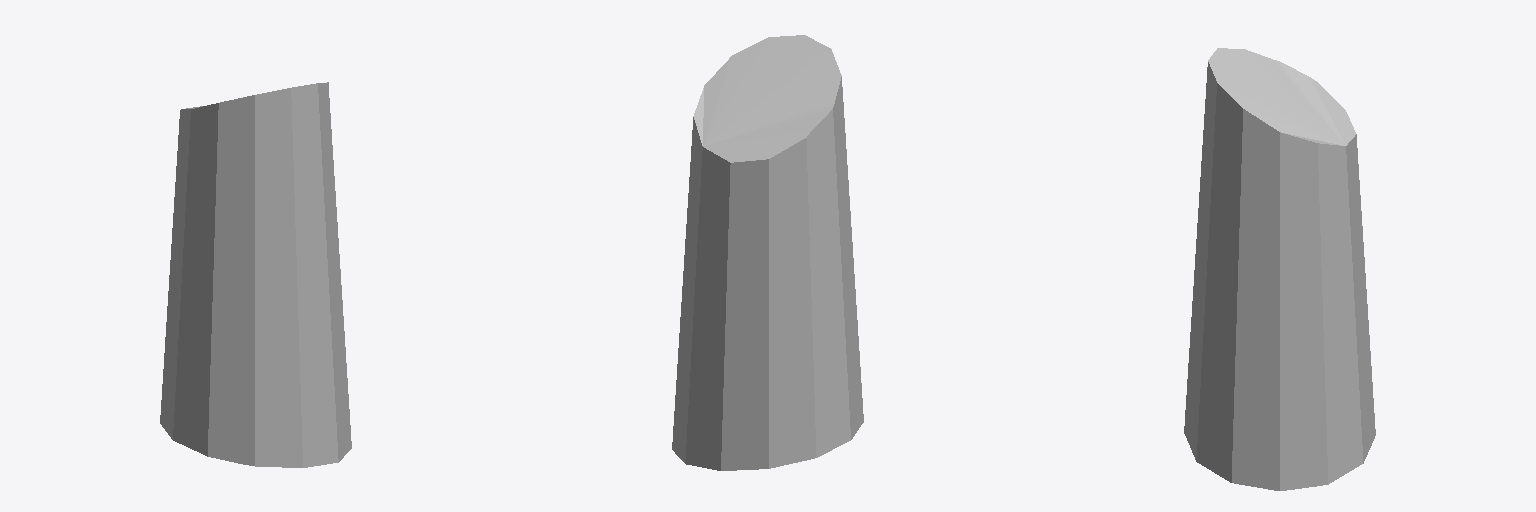
The model's file is col_4.obj.
3 renders of one model, left to right at view 1: azimuth 30°, elevation 25°; view 2: azimuth 150°, elevation 25°; view 3: azimuth 270°, elevation 25°, orthographic.
Visible parts, largest first — view 1: column.004_Cylinder.010; view 2: column.004_Cylinder.010; view 3: column.004_Cylinder.010.
Part boxes in pixels (bbox=[...]): column.004_Cylinder.010: bbox=[160, 82, 351, 467]; column.004_Cylinder.010: bbox=[672, 35, 863, 470]; column.004_Cylinder.010: bbox=[1184, 48, 1375, 490].
Bounding box in the file's own units: 3.74 × 8.37 × 3.73.